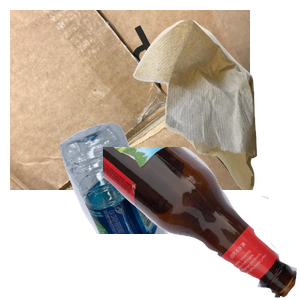cardboard: (10, 10, 250, 190)
glass: (103, 147, 300, 300)
plastic: (57, 120, 284, 300)
trash: (131, 17, 300, 197)
